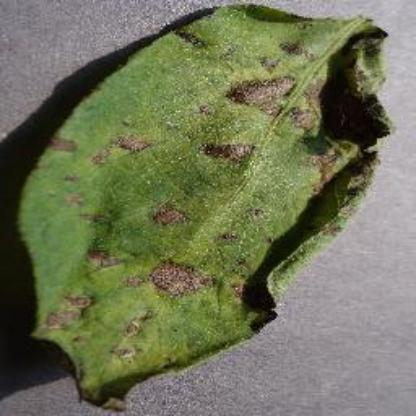Early-Blight: (15, 2, 400, 408)
